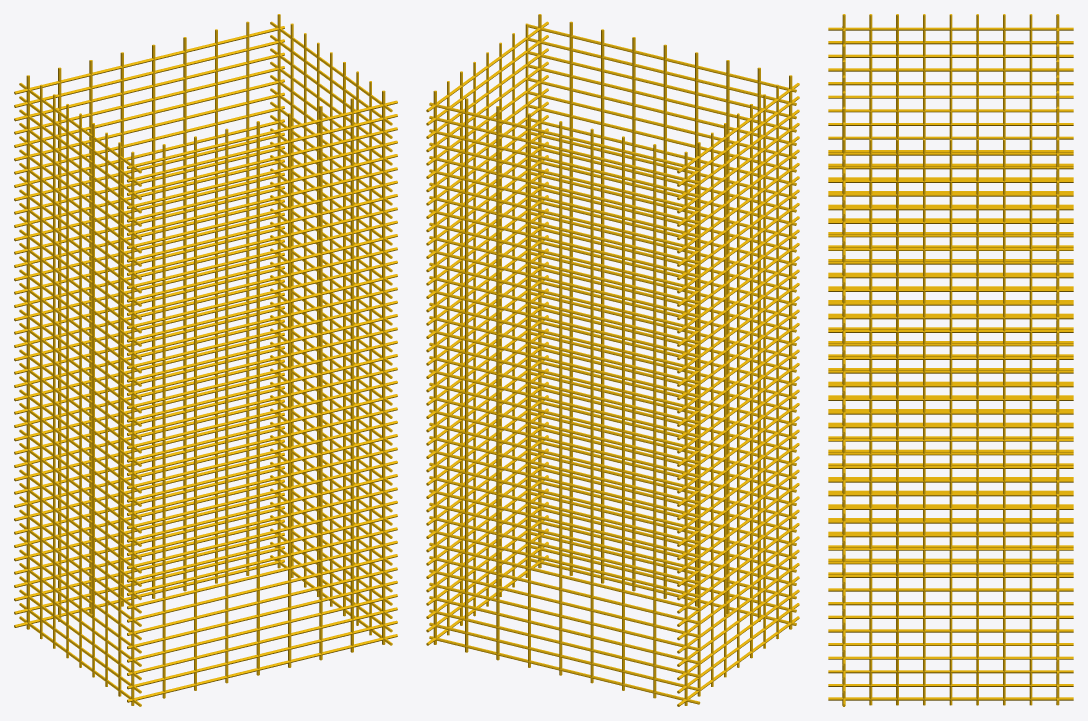
File: Tower.gltf
3 renders of one model, left to right at view 1: azimuth 30°, elevation 25°; view 2: azimuth 150°, elevation 25°; view 3: azimuth 270°, elevation 25°, orthographic. The views are drawn at different scales.
Parts seen in each view (by area): view 1: Cylinder; view 2: Cylinder; view 3: Cylinder.
Boxes of the visible parts, bbox=[...] form: Cylinder: bbox=[14, 14, 397, 706]; Cylinder: bbox=[426, 14, 799, 706]; Cylinder: bbox=[828, 14, 1073, 706].
Size of the model in its own units: 103 by 195 by 76.94.
